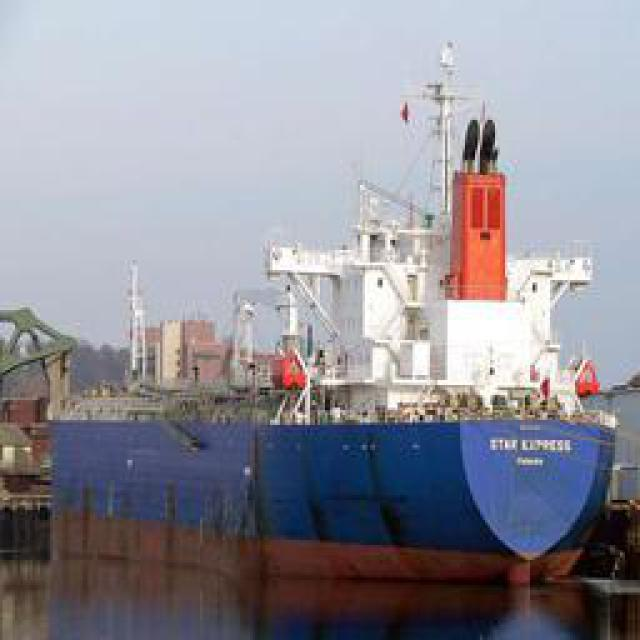Ship: (102, 36, 620, 589)
